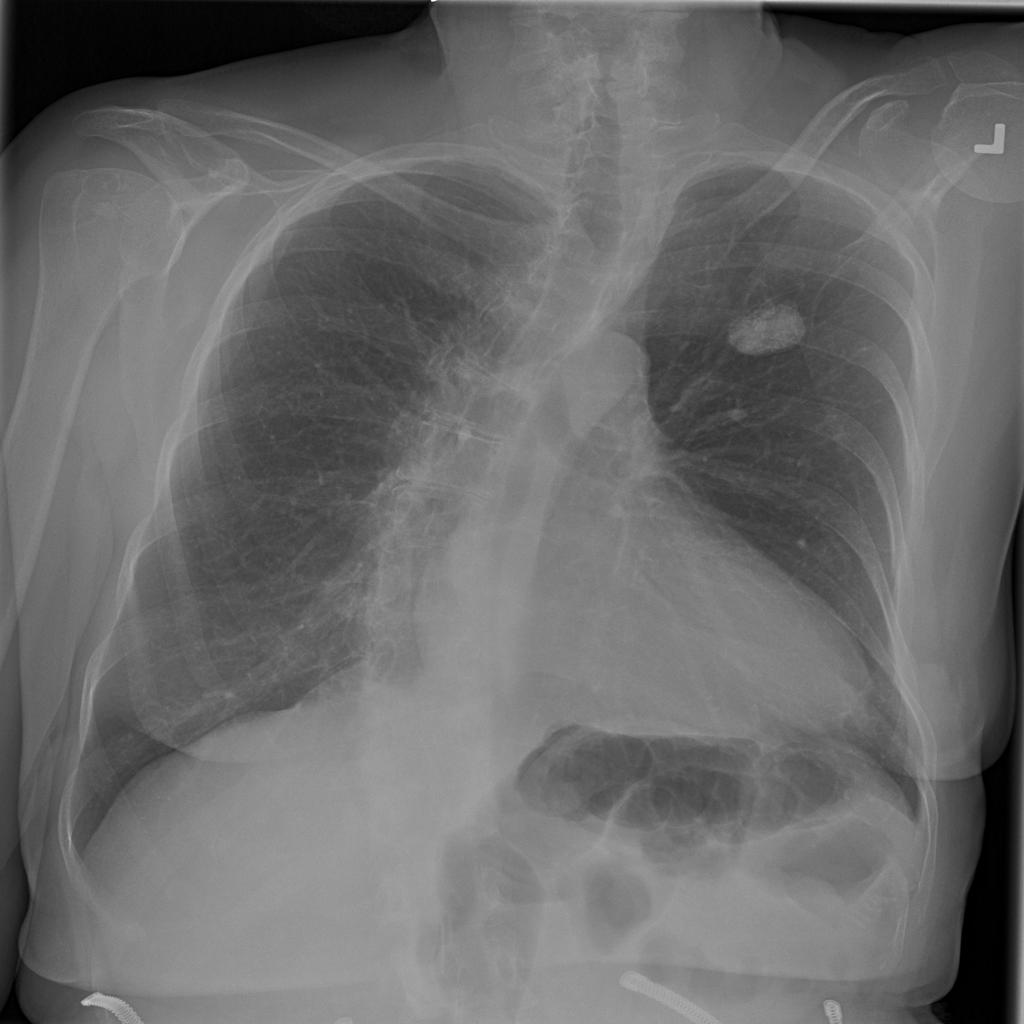nodule: (721, 297, 812, 367), (723, 404, 758, 428)
